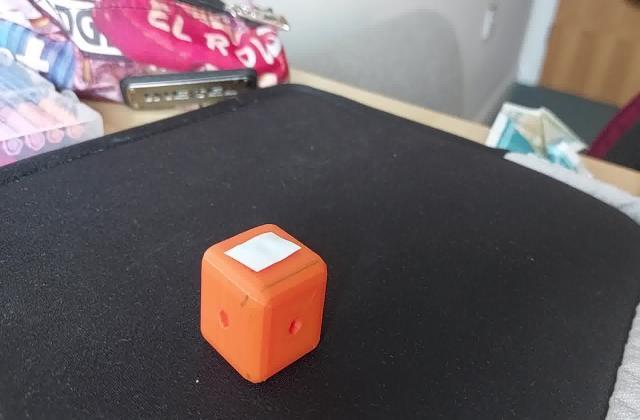cube: (194, 216, 331, 386)
white: (228, 238, 295, 279)
